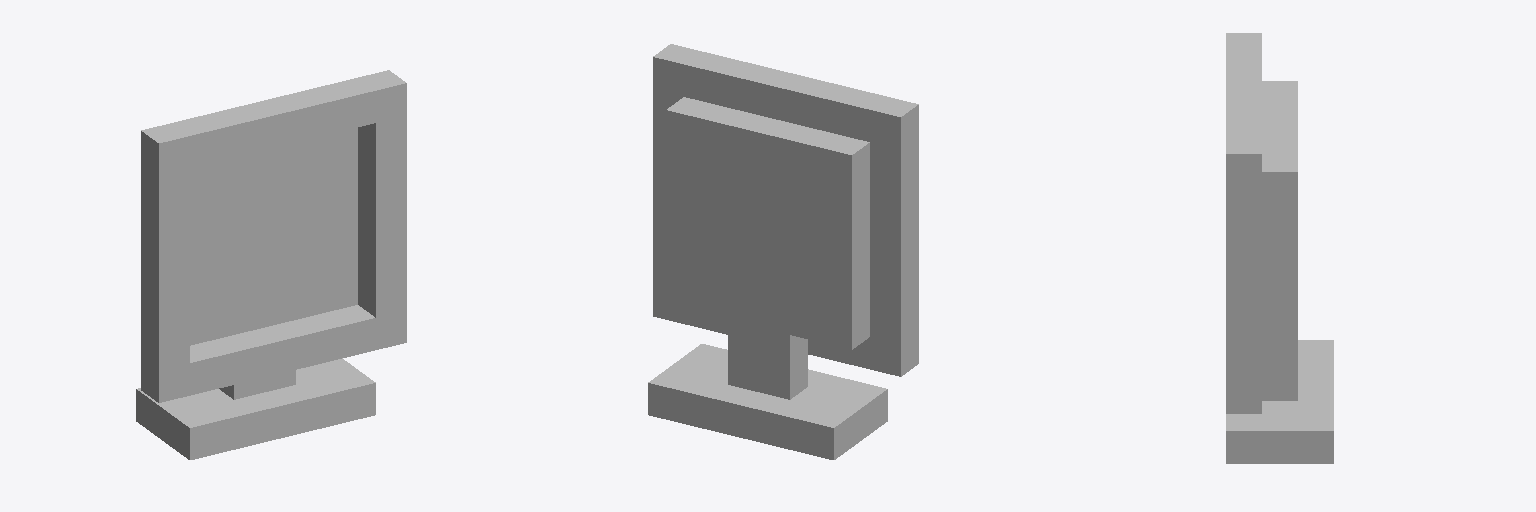
3 views of the same model, side by side, from view 1: azimuth 30°, elevation 25°; view 2: azimuth 150°, elevation 25°; view 3: azimuth 270°, elevation 25° (orthographic).
Visible parts, largest first — view 1: GDM; view 2: GDM; view 3: GDM.
Boxes of the visible parts, box(x1,y1,x2,y2) form: GDM: box(136, 70, 406, 459); GDM: box(648, 44, 918, 459); GDM: box(1226, 33, 1333, 463).
Bounding box in the file's own units: 0.8 × 1 × 0.3.